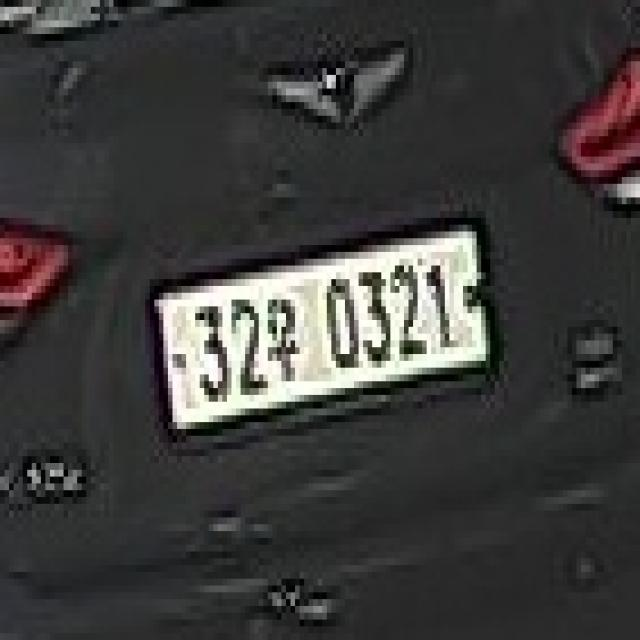0: (326, 272, 358, 374)
1: (427, 259, 454, 347)
2: (391, 259, 432, 354), (231, 299, 268, 395)
3: (190, 300, 232, 408), (354, 266, 390, 368)
license_plate: (154, 218, 490, 429)
u: (263, 293, 300, 388)
